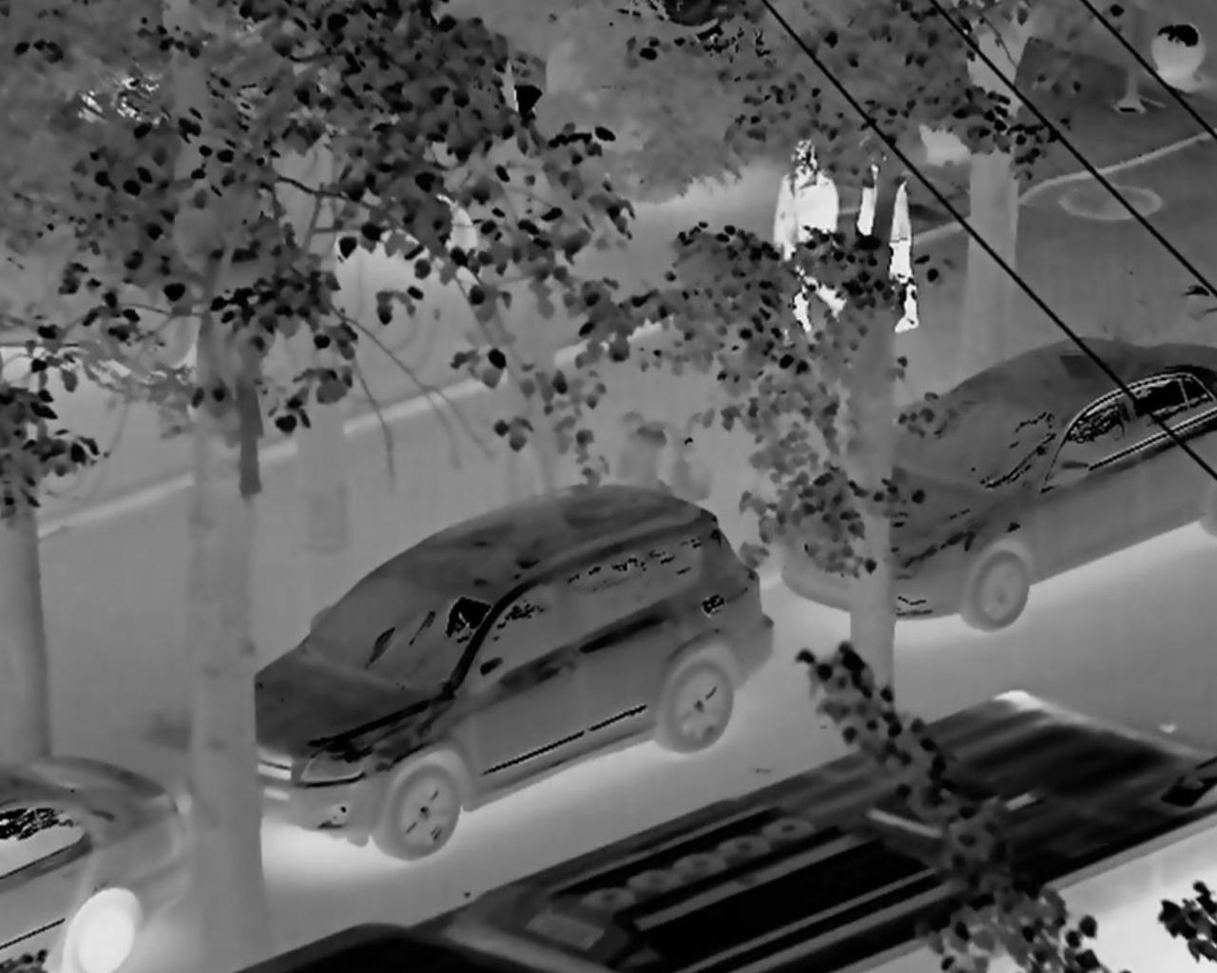person: (745, 115, 858, 341), (856, 128, 926, 334)
